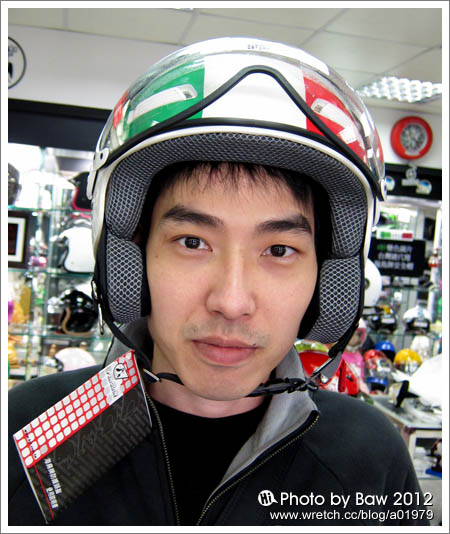helmet: (100, 49, 380, 332)
